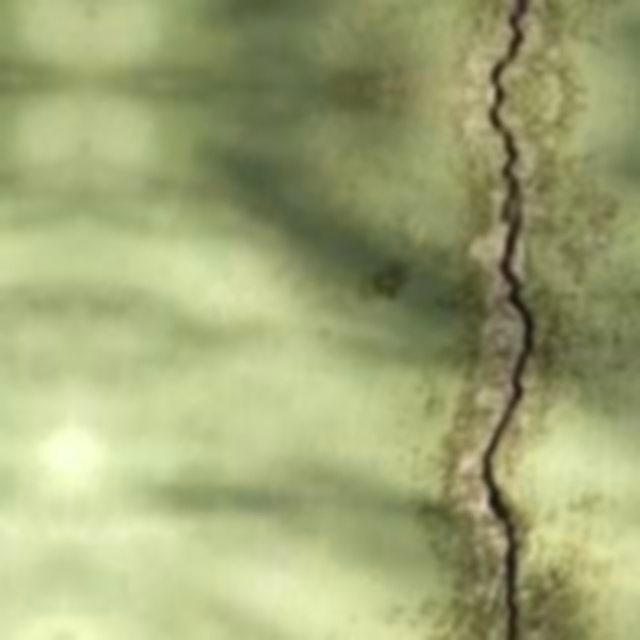SurfaceCrack: (424, 0, 568, 640)
